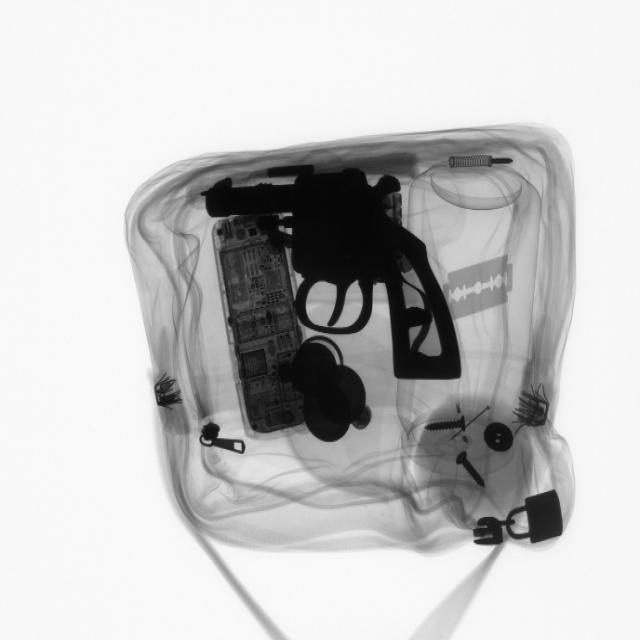BLADE: (442, 256, 516, 328)
GUN: (201, 168, 461, 389)
SCREW: (417, 408, 480, 446), (450, 443, 491, 498)
